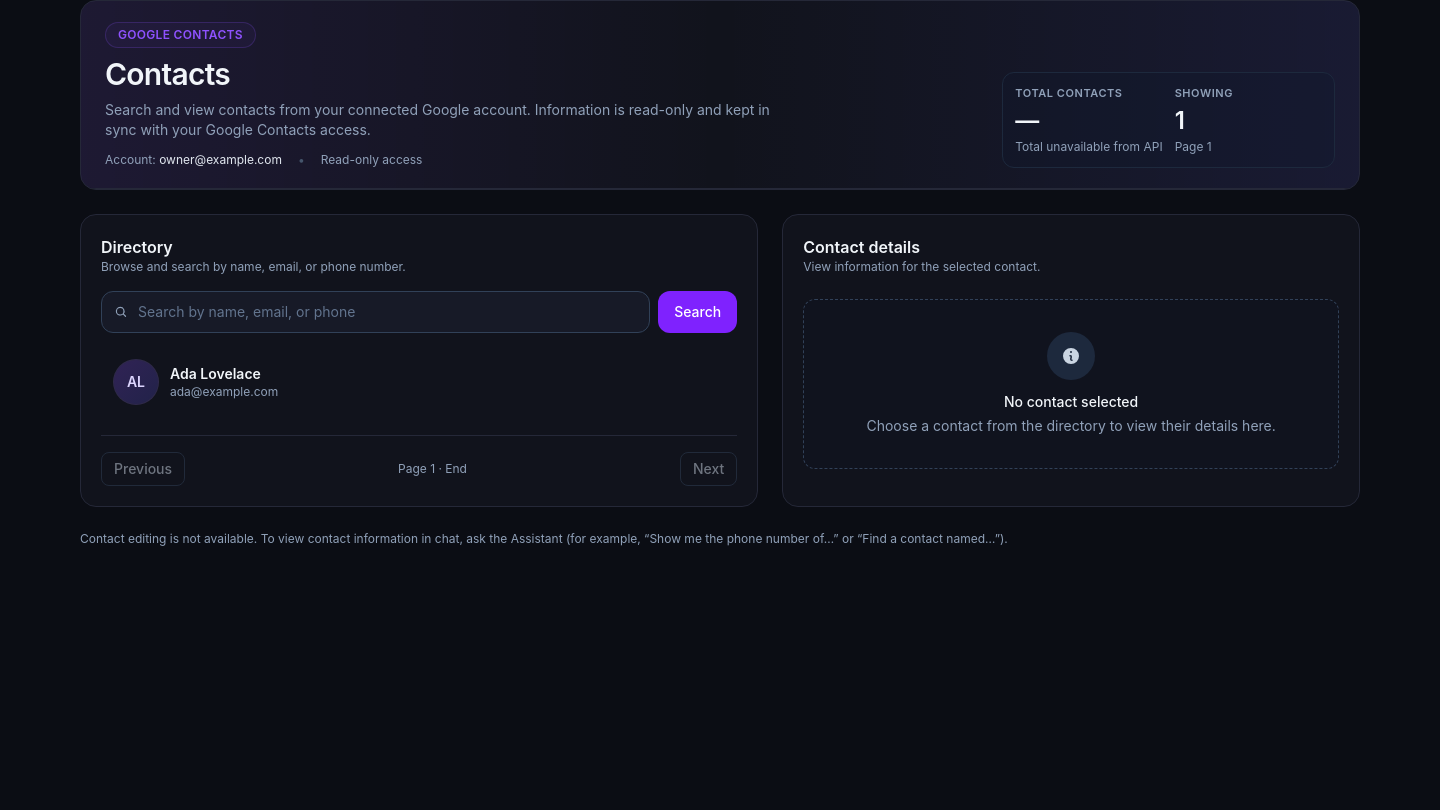
Test case: Contacts page (read-only) › renders contact list and detail without edit/delete actions
Expected: the text named "Ada Lovelace avatar" is shown, [114,360,158,404]
Click the text "Ada Lovelace".
click(215, 374)  # box [170,364,261,384]
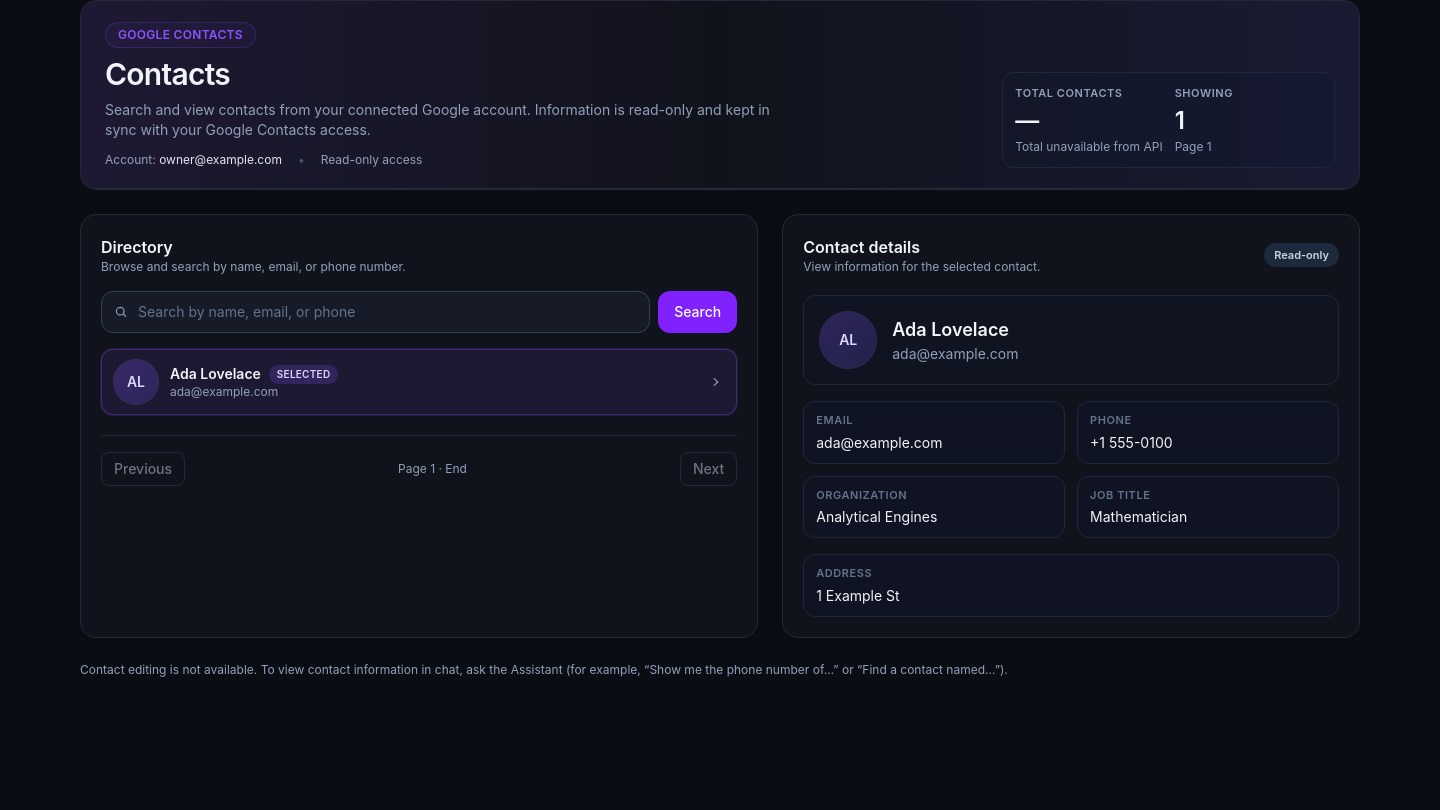
Result: the text "Analytical Engines" is shown at [816,508,937,525]
Result: the text "Mathematician" is shown at [1090,508,1187,525]
Result: the text "1 Example St" is shown at [816,586,900,604]
